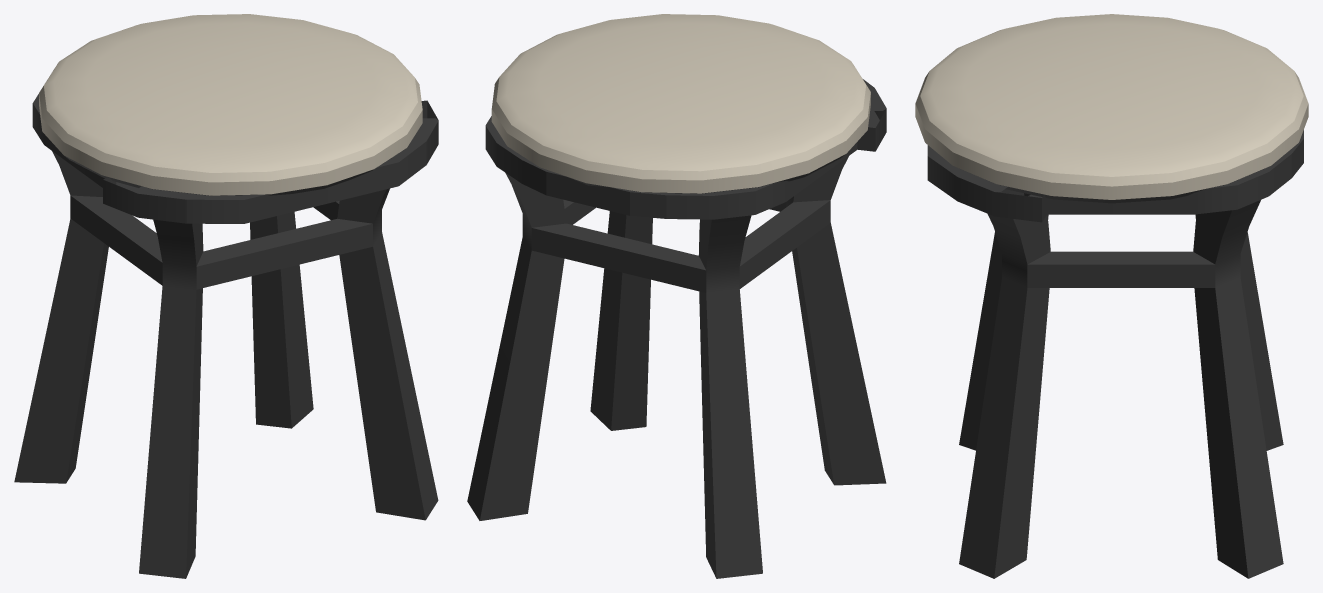
File: SM_Prop_Bar_Stool_02.fbx
The picture shows the model from 3 angles, left to right: view 1: azimuth 30°, elevation 25°; view 2: azimuth 150°, elevation 25°; view 3: azimuth 270°, elevation 25°; orthographic projection. The views are drawn at different scales.
Visible parts, largest first — view 1: pCylinder9; view 2: pCylinder9; view 3: pCylinder9.
Part boxes in pixels (<box>): pCylinder9: <box>14,14,438,578</box>; pCylinder9: <box>467,14,886,578</box>; pCylinder9: <box>915,14,1308,578</box>.
Bounding box in the file's own units: 55.33 × 65.57 × 55.33.
